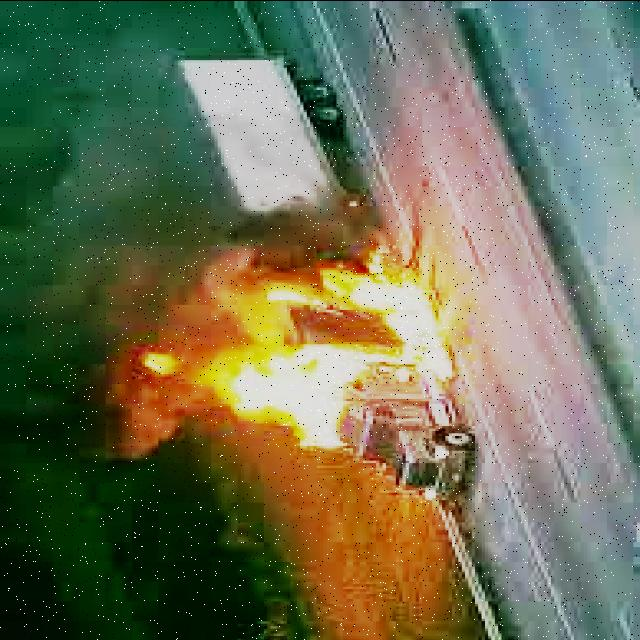api: (183, 258, 447, 453)
